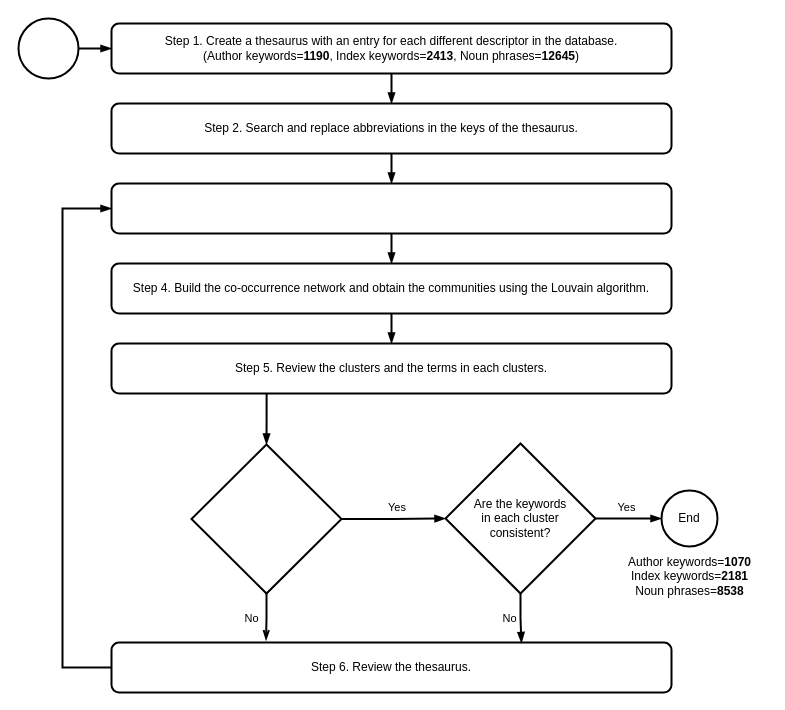
This 785x710 diagram has some shape labels left out. The box of each missing label's shape, as (x1, y1, x2, y2) in pixels:
Are the clusters consistent?: (190, 443, 342, 594)
Start: (17, 17, 79, 79)
Step 3. Apply the thesaurus to the descriptors in the database.: (110, 182, 672, 234)
